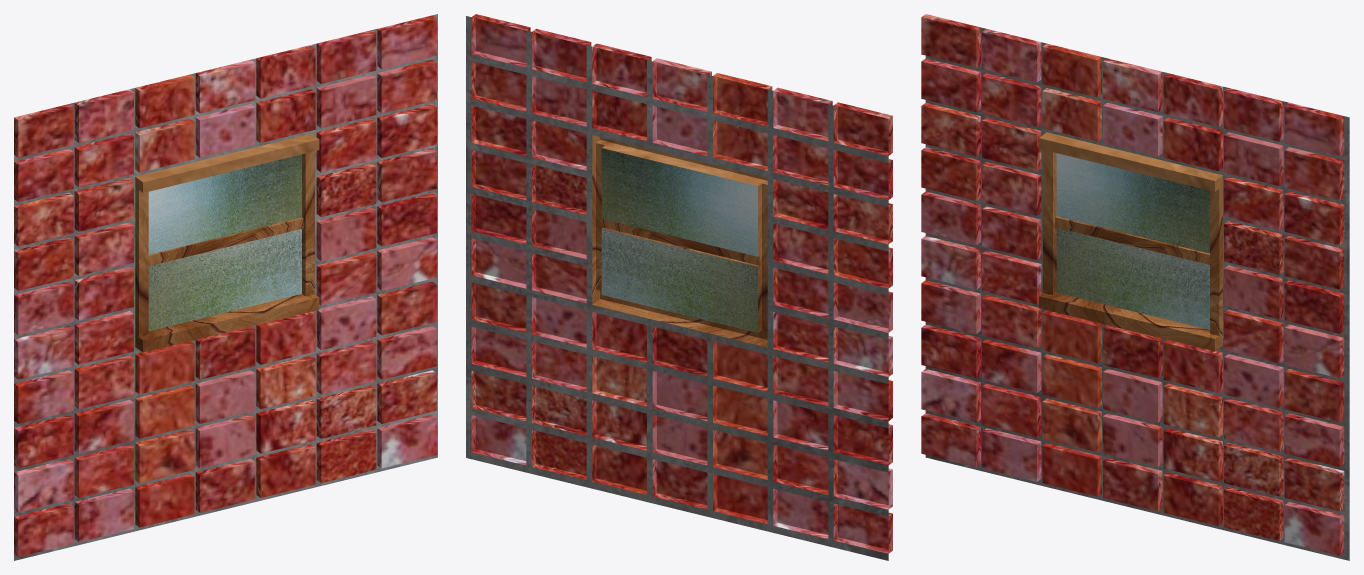
Rendered from Pared_004.fbx.
3 views of the same model, side by side, from view 1: azimuth 30°, elevation 25°; view 2: azimuth 150°, elevation 25°; view 3: azimuth 330°, elevation 25° (orthographic).
Parts seen in each view (by area): view 1: Plane; view 2: Plane; view 3: Plane.
Part boxes in pixels (x1,y1,x2,y2): Plane: (14, 14, 437, 560); Plane: (466, 14, 892, 560); Plane: (921, 14, 1349, 560).
Size of the model in its own units: 600 by 600 by 19.49.
